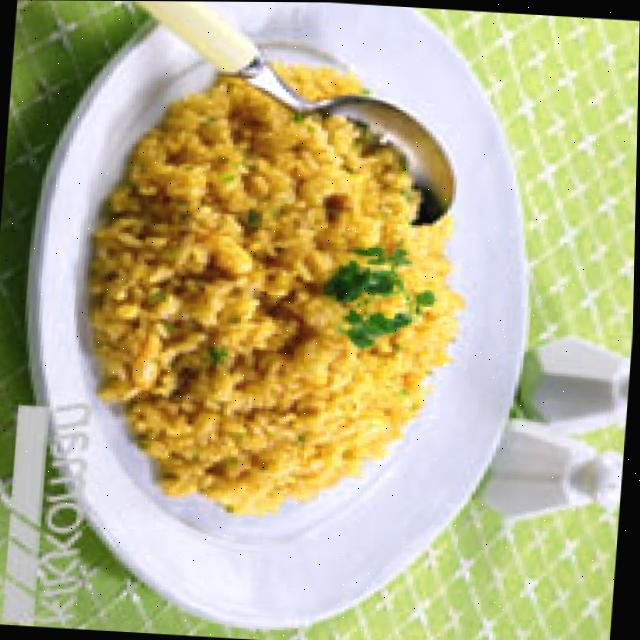米饭主食: (104, 1, 555, 640)
